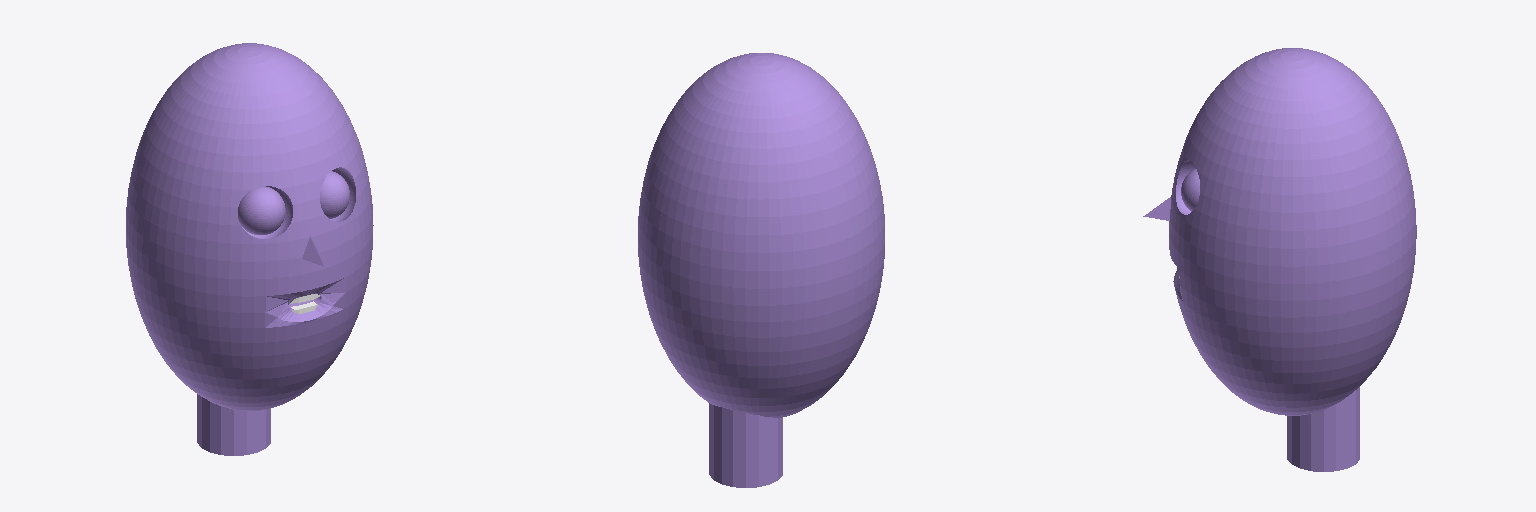
File: testFaceShowingTeeth.obj
3 views of the same model, side by side, from view 1: azimuth 30°, elevation 25°; view 2: azimuth 150°, elevation 25°; view 3: azimuth 270°, elevation 25° (orthographic).
Parts seen in each view (by area): view 1: Sphere001; view 2: Sphere001; view 3: Sphere001.
Part boxes in pixels (left/top/right/bottom): Sphere001: left=126, top=43, right=373, bottom=455; Sphere001: left=638, top=53, right=884, bottom=487; Sphere001: left=1143, top=48, right=1416, bottom=471.
Bounding box in the file's own units: 20 × 35.7 × 22.06.